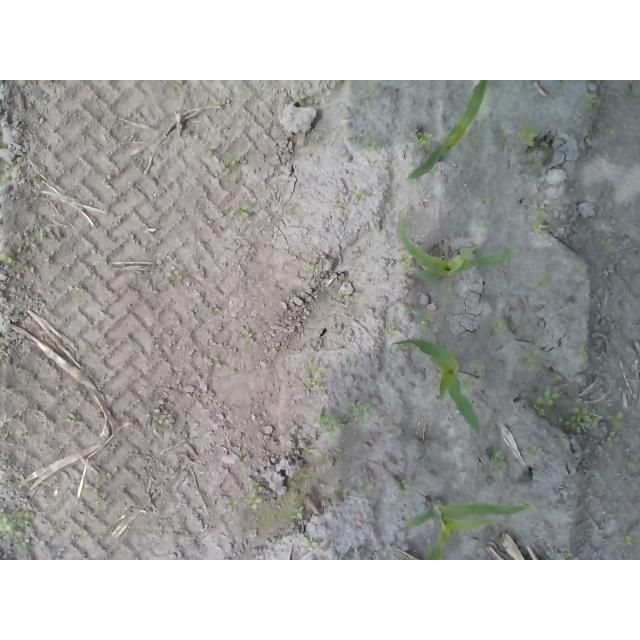Maize: (390, 338, 482, 435), (401, 496, 539, 560), (407, 81, 489, 180), (398, 222, 522, 282)
Weeds: (558, 404, 603, 444), (0, 510, 32, 550), (314, 410, 342, 439), (535, 389, 562, 415), (304, 365, 326, 391), (348, 401, 369, 423), (523, 347, 543, 369), (520, 122, 538, 146), (85, 488, 107, 505), (249, 478, 264, 498), (245, 494, 263, 510), (489, 452, 507, 468), (604, 126, 621, 142), (584, 92, 600, 108), (399, 259, 416, 274), (417, 130, 433, 145), (601, 237, 618, 251), (236, 202, 250, 219), (578, 343, 591, 361), (611, 411, 626, 426), (224, 152, 241, 165), (152, 413, 170, 425), (494, 319, 508, 334), (289, 505, 303, 520), (241, 331, 256, 345), (533, 203, 547, 217), (620, 533, 634, 547), (305, 536, 320, 549), (2, 254, 17, 267), (38, 227, 51, 242), (224, 500, 238, 513), (351, 188, 366, 200), (337, 291, 352, 303), (352, 132, 365, 145), (300, 446, 314, 458), (560, 548, 574, 560), (401, 478, 414, 490), (535, 278, 549, 289), (365, 87, 379, 98), (606, 431, 620, 442), (167, 271, 181, 282), (207, 359, 222, 369), (462, 379, 475, 390), (358, 485, 372, 495), (367, 140, 378, 152), (68, 285, 81, 295), (534, 222, 544, 234), (295, 95, 305, 106), (473, 362, 482, 374), (207, 147, 217, 157), (576, 267, 585, 278), (423, 318, 434, 327), (304, 261, 313, 272), (388, 324, 397, 334), (0, 344, 6, 353)
